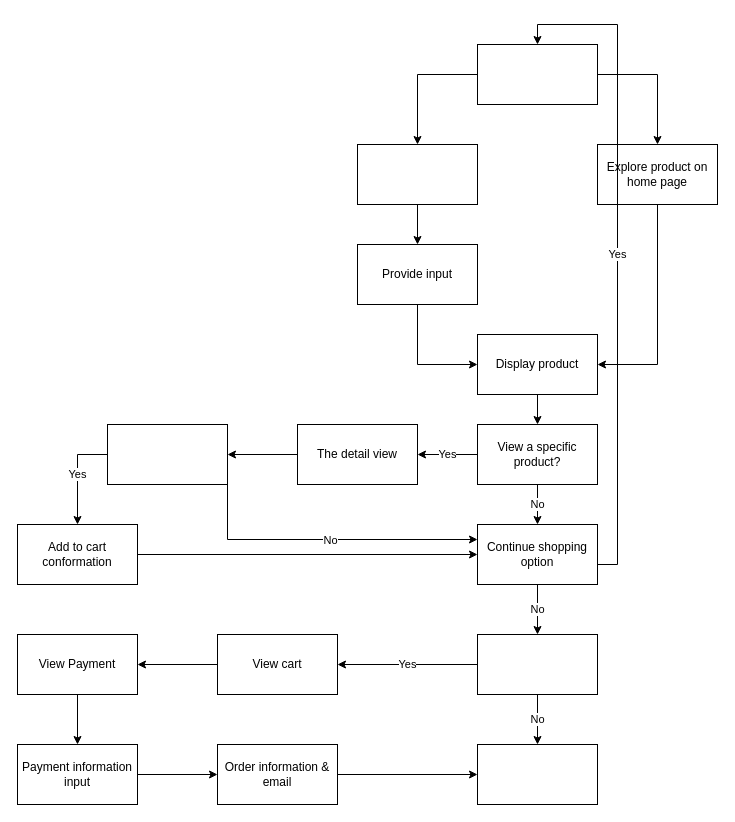
The diagram is 735 pixels wide and 822 high, and some of its shapes have lost their labels. The centre of each missing label's shape, as x and y in pixels:
Add to cart option: (x=167, y=454)
Checkout option: (x=537, y=664)
Leave the website: (x=537, y=774)
Search product: (x=417, y=174)
User comes to the website: (x=537, y=74)
